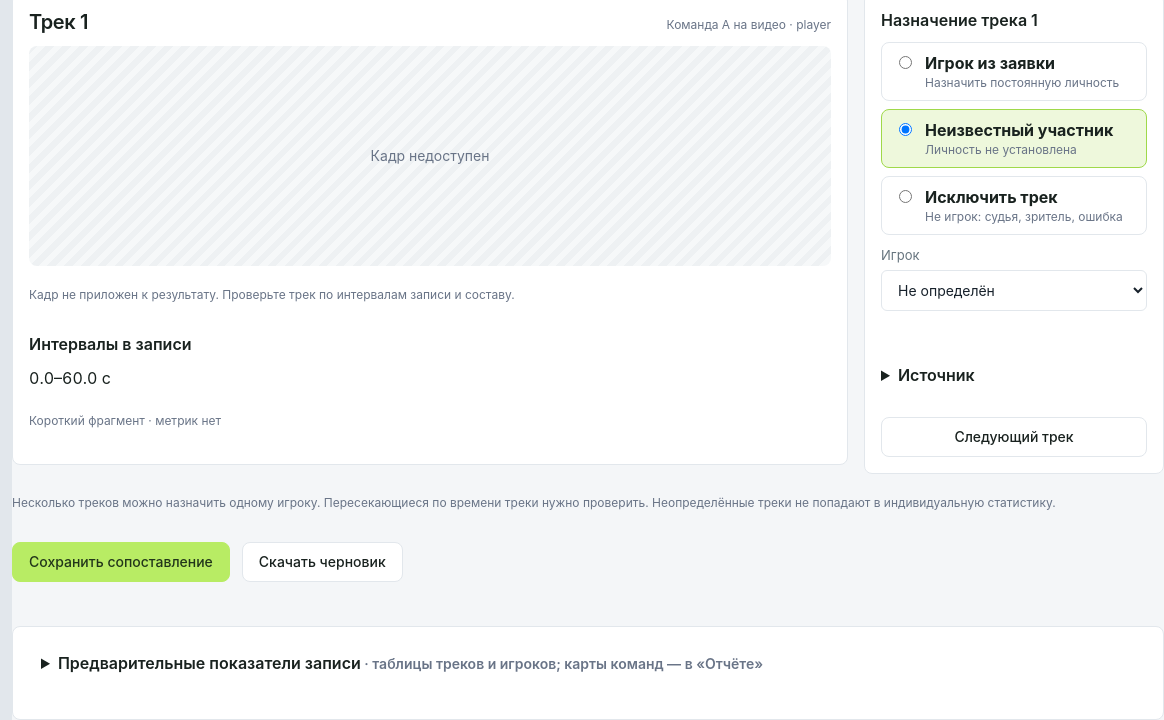
Test: shows track and team period measurements before identity confirmation
(page scrolled)
Expected: the heading "Командные показатели по периодам" is not shown
# Предварительные показатели свёрнуты, чтобы не отодвигать сопоставление треков.
Click the heading "Предварительные показатели записи" at (410, 663), box x1=58 y1=653 x2=763 y2=673
(page scrolled)
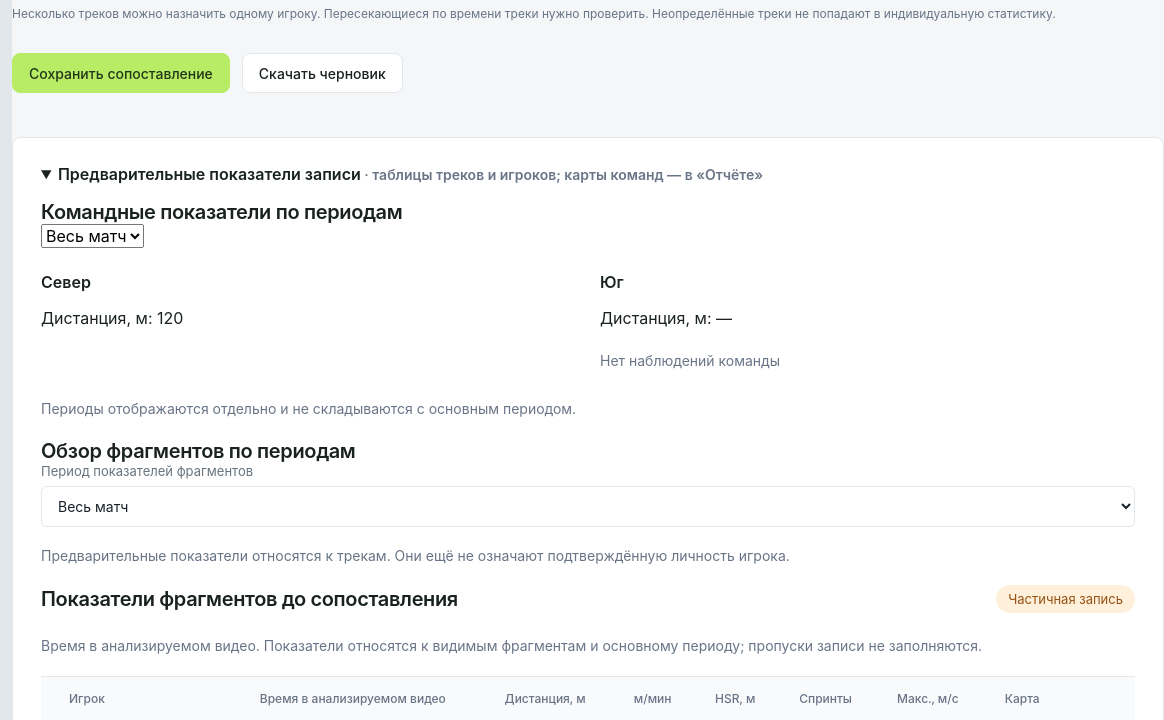
Now the heading "Командные показатели по периодам" is shown, box x1=41 y1=200 x2=402 y2=224
Now the heading "Показатели фрагментов до сопоставления" is shown, box x1=41 y1=587 x2=458 y2=611
Now the text "Нет наблюдений команды" is shown, box x1=600 y1=352 x2=780 y2=369
